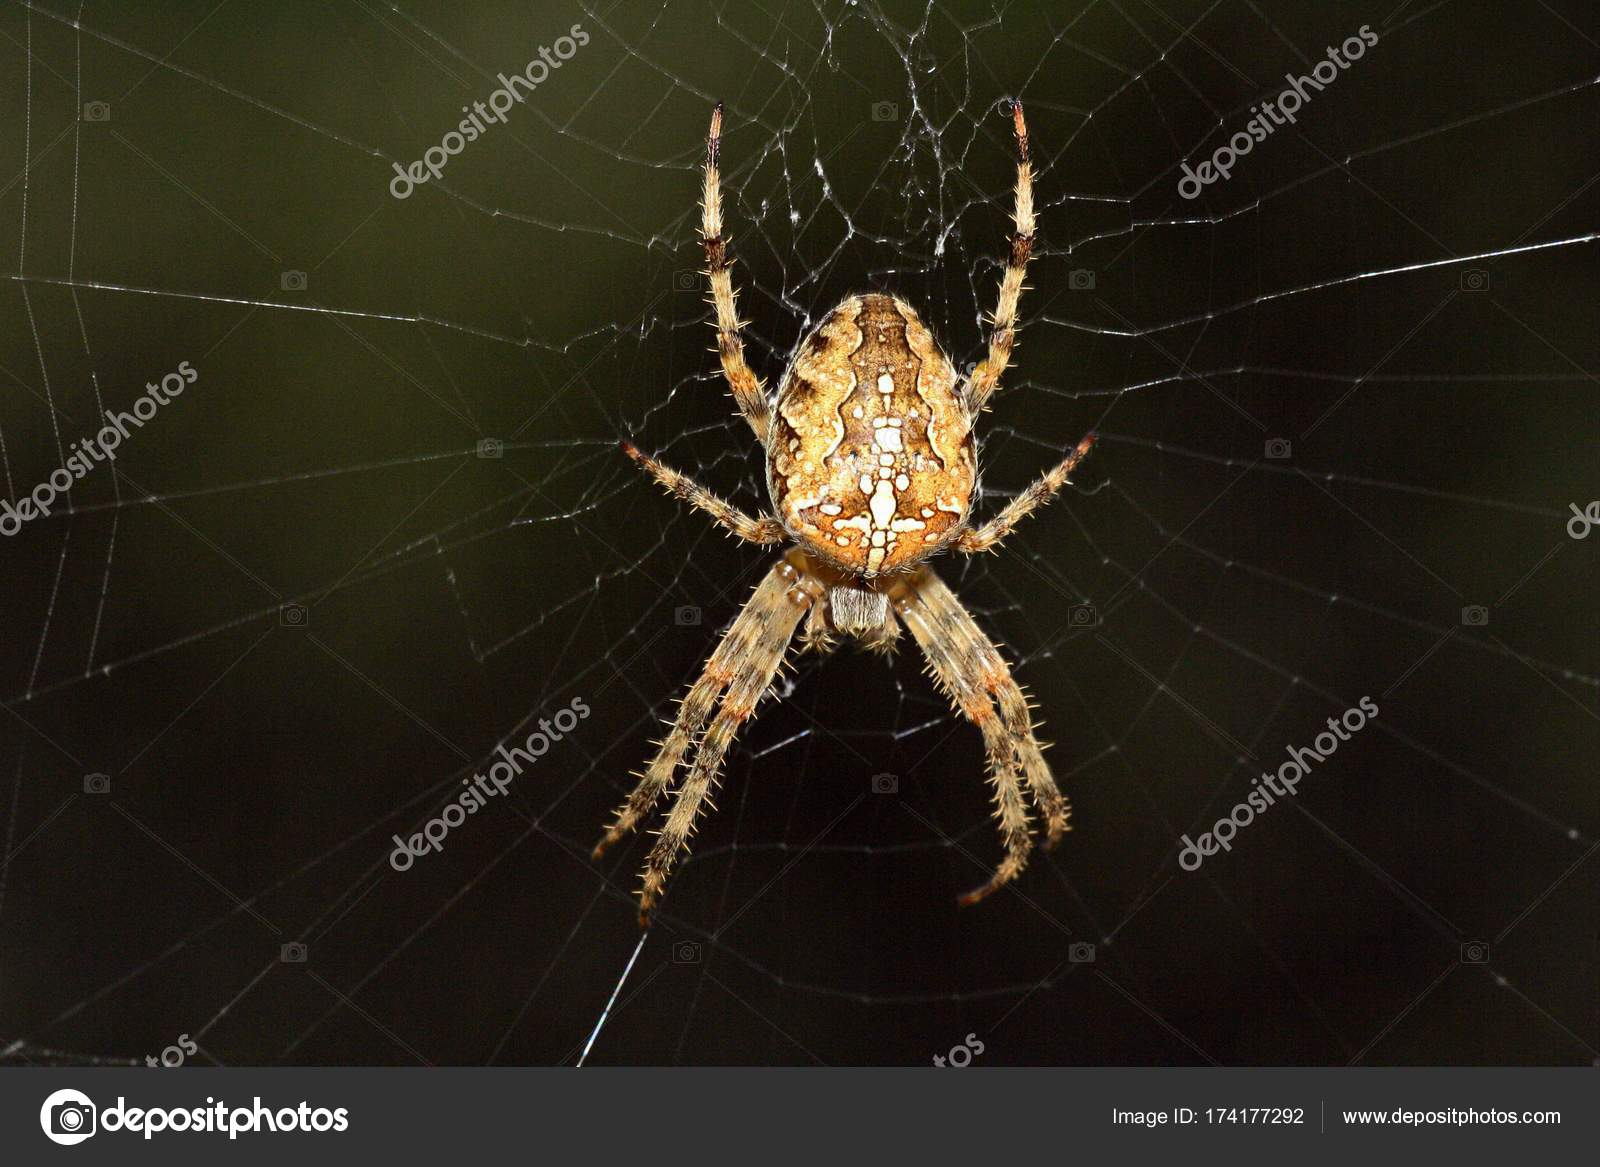spider: (548, 60, 1113, 966)
